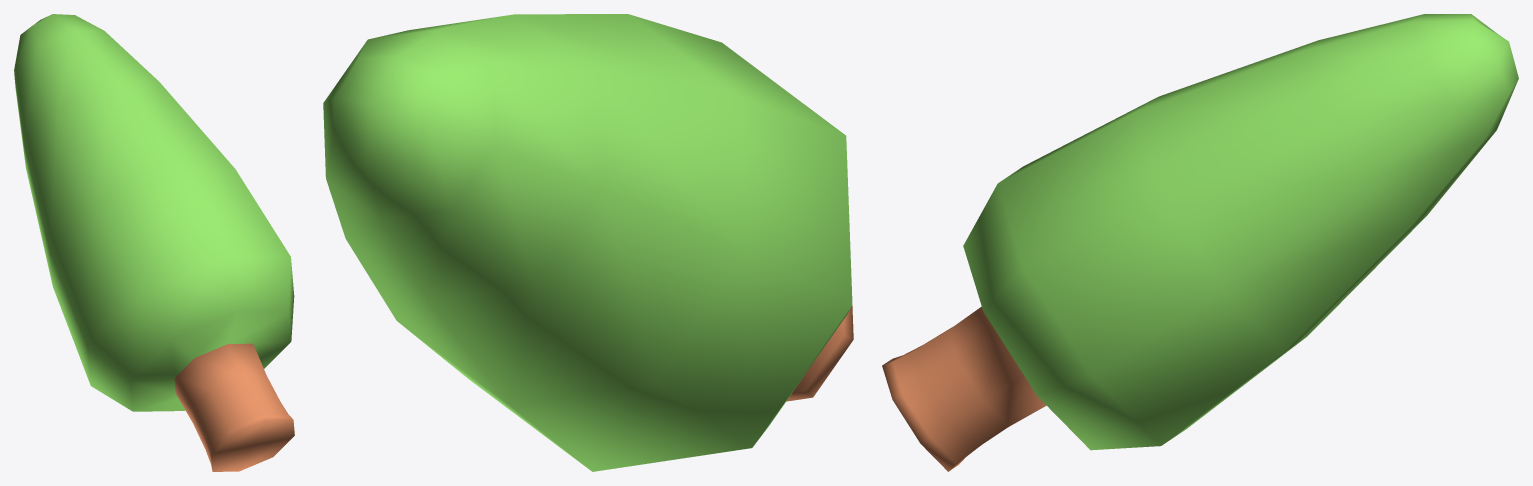
File: Tree.fbx
3 views of the same model, side by side, from view 1: azimuth 30°, elevation 25°; view 2: azimuth 150°, elevation 25°; view 3: azimuth 270°, elevation 25° (orthographic). The views are drawn at different scales.
Parts seen in each view (by area): view 1: Tree; view 2: Tree; view 3: Tree.
Part boxes in pixels (x1,y1,x2,y2): Tree: [14, 14, 294, 471]; Tree: [323, 14, 853, 471]; Tree: [882, 14, 1518, 471].
Size of the model in its own units: 4.98 by 7.39 by 9.61.
